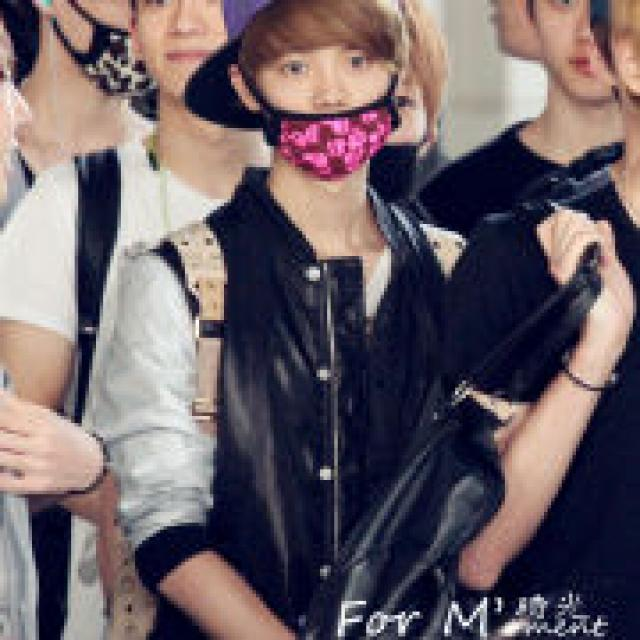mask: (265, 9, 389, 176)
nomask: (142, 4, 242, 103), (530, 2, 615, 98)
